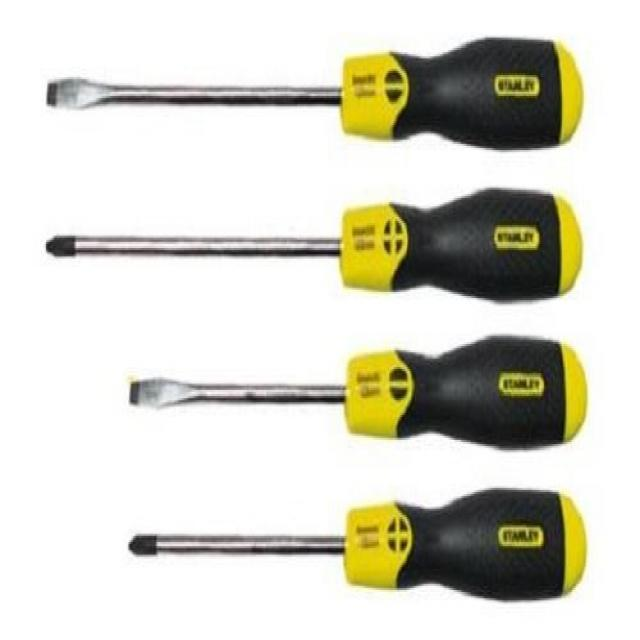screwdriver: (41, 34, 585, 156), (42, 183, 584, 304), (127, 330, 590, 458), (126, 486, 592, 602)
